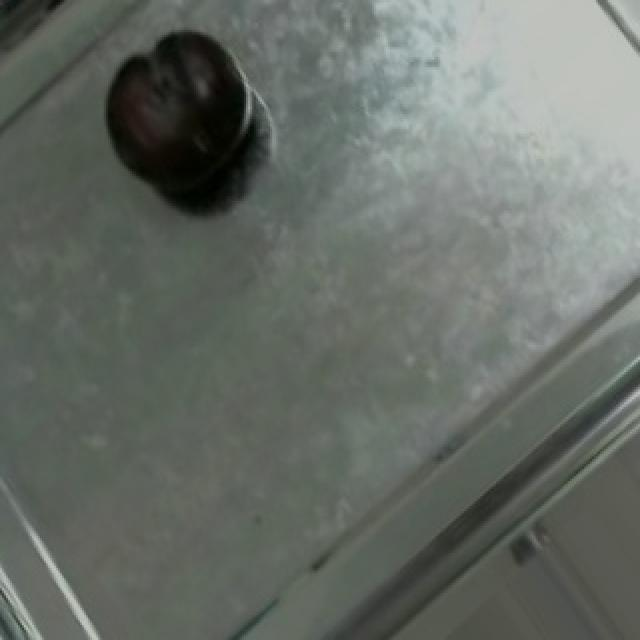Fruit: (88, 10, 274, 213)
